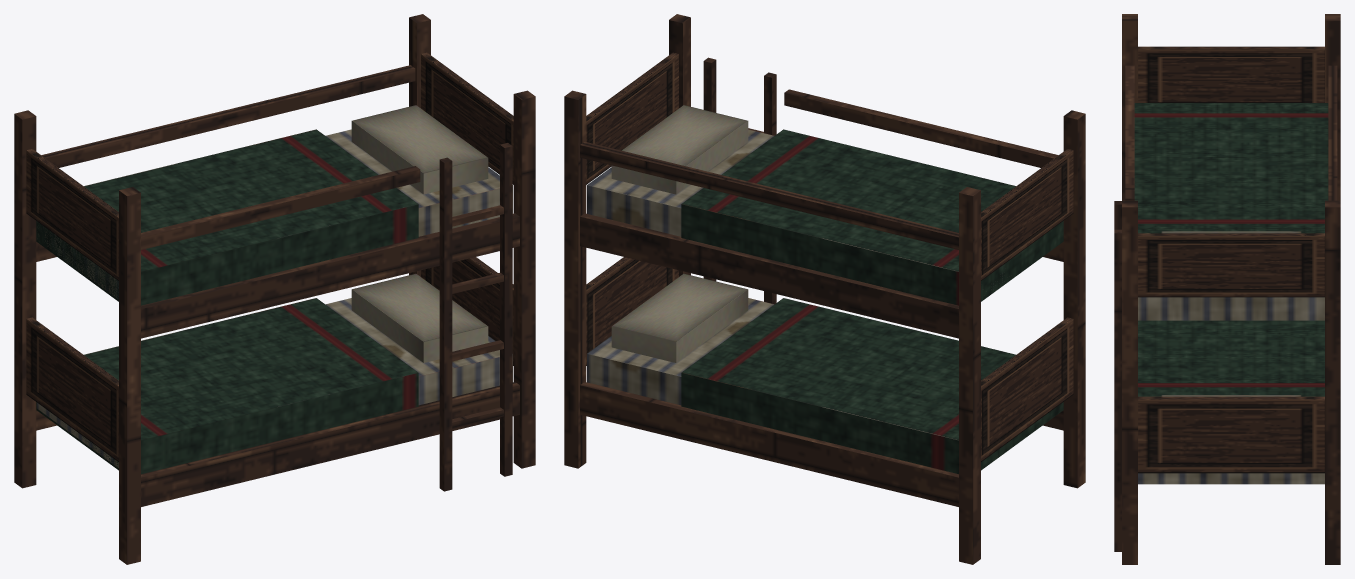
File: Furn_Bed_Bunk.fbx
3 renders of one model, left to right at view 1: azimuth 30°, elevation 25°; view 2: azimuth 150°, elevation 25°; view 3: azimuth 270°, elevation 25°, orthographic. The views are drawn at different scales.
Visible parts, largest first — view 1: Furn_Bed_Bunk; view 2: Furn_Bed_Bunk; view 3: Furn_Bed_Bunk.
Part boxes in pixels (x1,y1,x2,y2): Furn_Bed_Bunk: (14, 14, 535, 564); Furn_Bed_Bunk: (564, 14, 1085, 564); Furn_Bed_Bunk: (1114, 14, 1340, 564).
Bounding box in the file's own units: 2.03 × 1.75 × 1.
